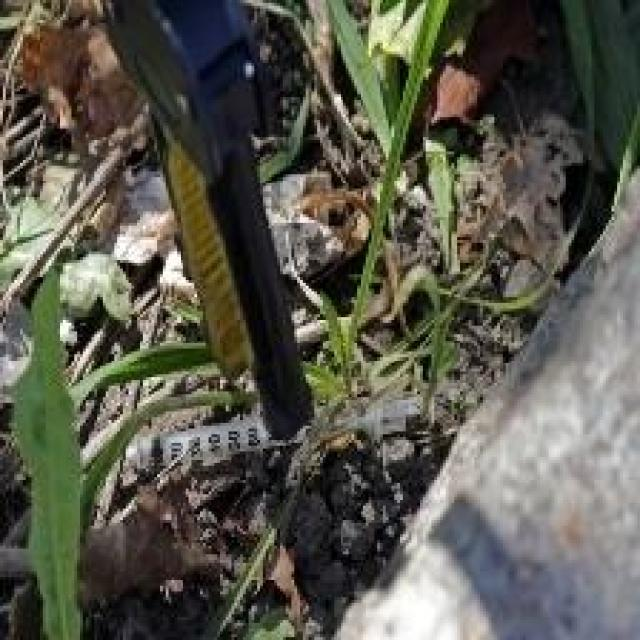syringe: (74, 401, 456, 481)
